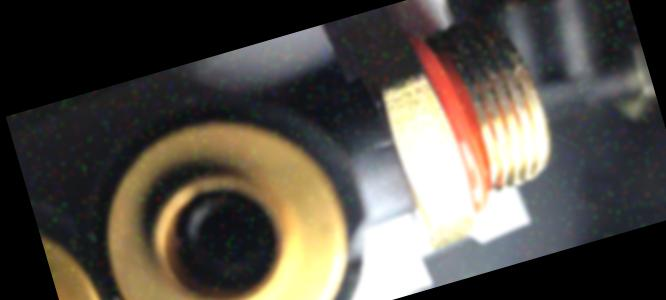bump: (334, 204, 394, 269)
white mark: (377, 135, 395, 153)
